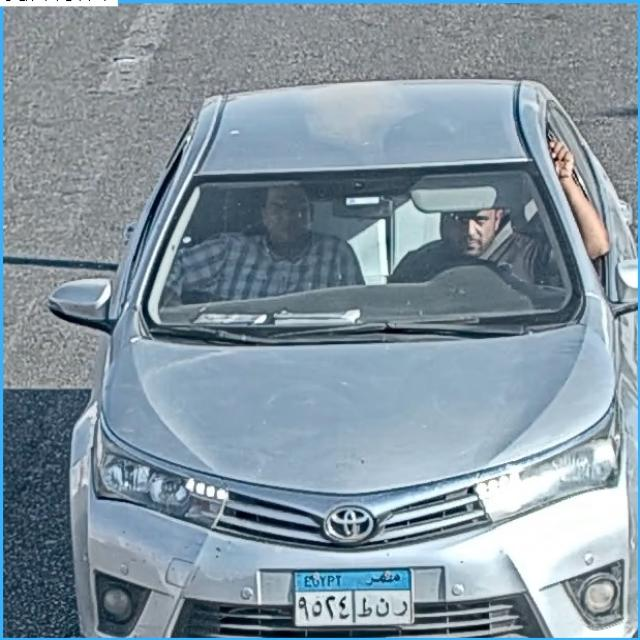windshield: (140, 172, 570, 325)
